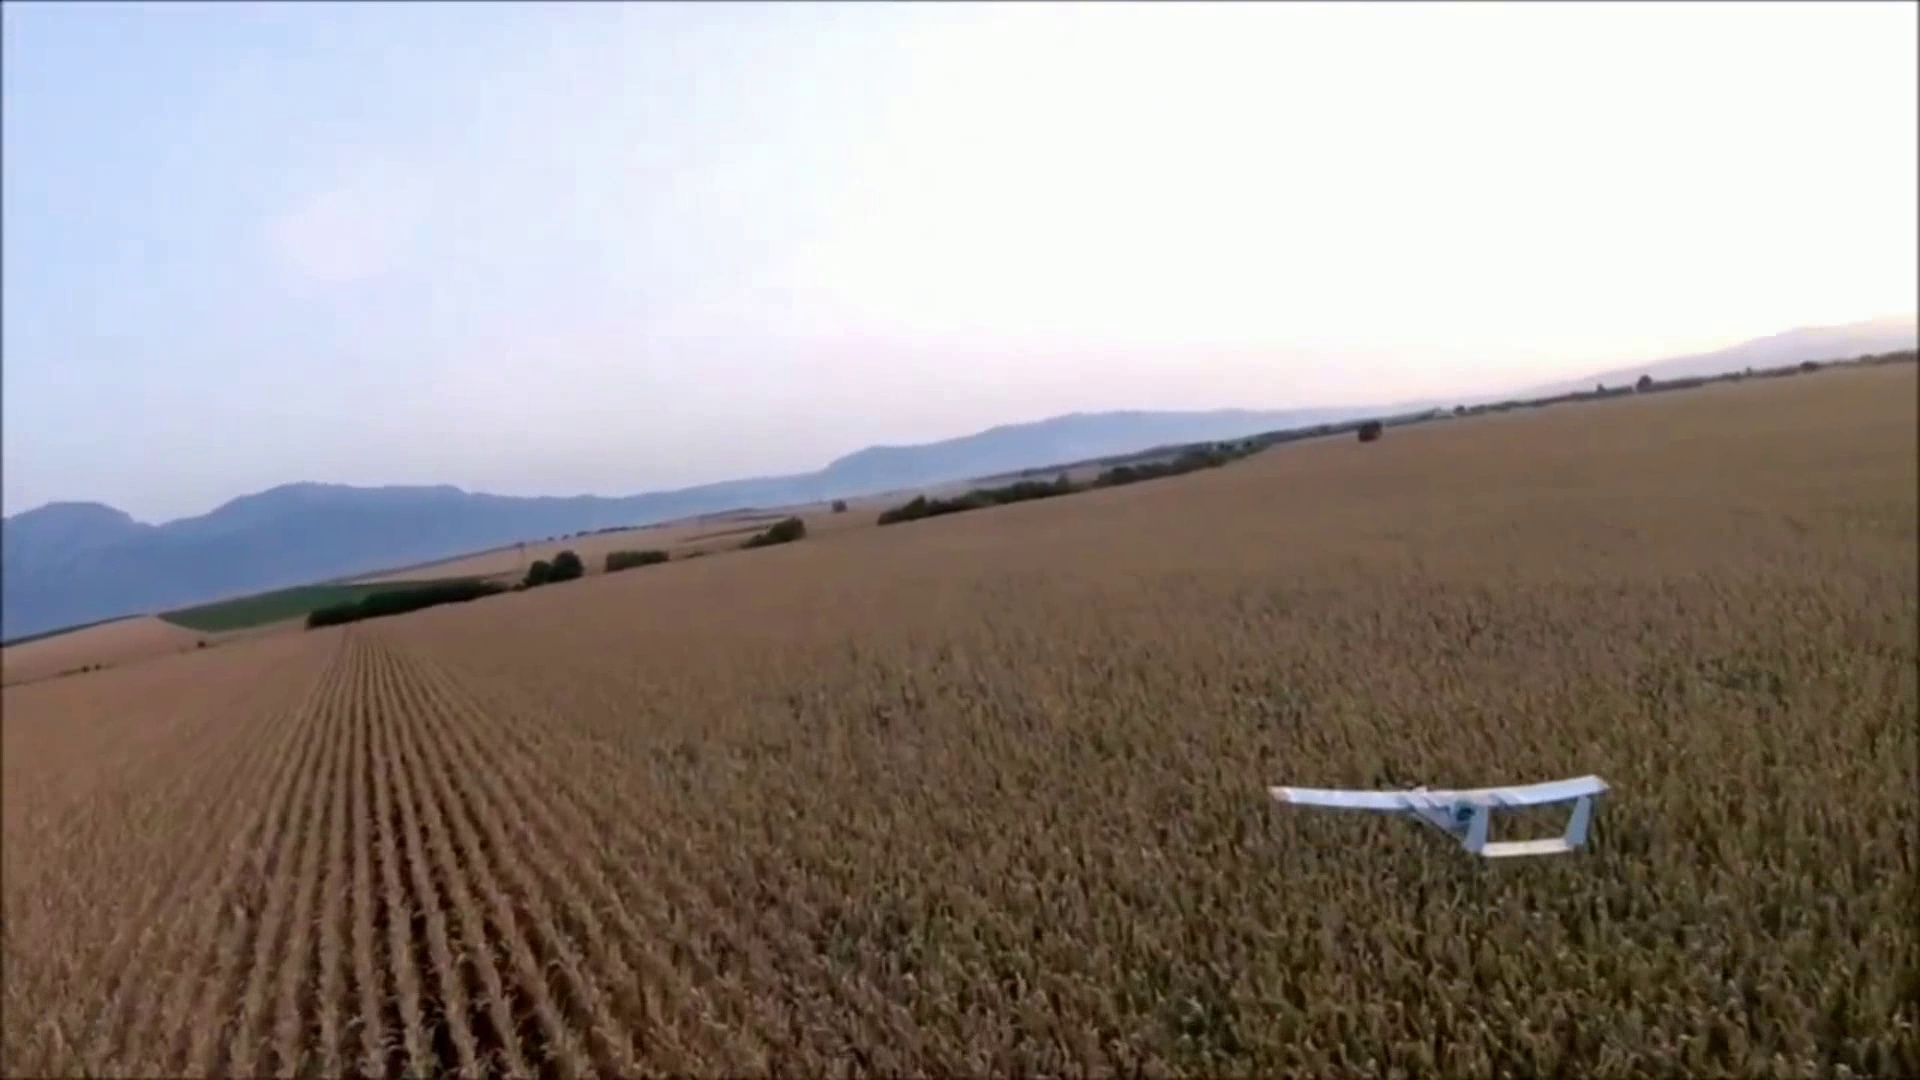airplane: (1269, 775, 1610, 858)
